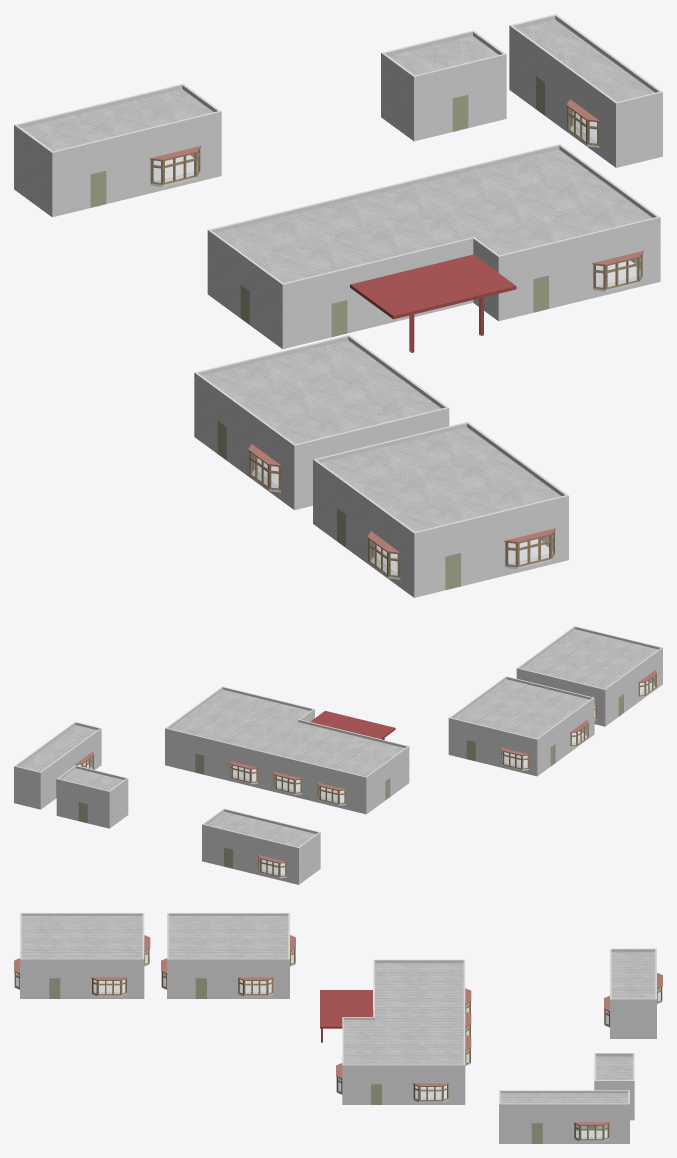
File: Plan(REF)_levels(1)_window(W Splay Bay 23_5)_wall(WAFRA WALL)_quoin(N)_cornice(N).fbx
3 renders of one model, top to bottom at view 1: azimuth 30°, elevation 25°; view 2: azimuth 150°, elevation 25°; view 3: azimuth 270°, elevation 25°, orthographic. The views are drawn at different scales.
Visible parts, largest first — view 1: WAFRA Stucco - White Rough 23, WAFRA Roof - Corrugated Sheet Matte 23, WAFRA Roof - Standing Seam Red Coat 23, Color - Beige, Wood - Millwork - Pine - Horizontal, Glass - Clear, Metal - Finish - Copper, Color - White; view 2: WAFRA Stucco - White Rough 23, WAFRA Roof - Corrugated Sheet Matte 23, Wood - Millwork - Pine - Horizontal, Glass - Clear, Color - Beige, WAFRA Roof - Standing Seam Red Coat 23, Metal - Finish - Copper, Color - White; view 3: WAFRA Roof - Corrugated Sheet Matte 23, WAFRA Stucco - White Rough 23, Wood - Millwork - Pine - Horizontal, WAFRA Roof - Standing Seam Red Coat 23, Glass - Clear, Metal - Finish - Copper, Color - Beige, Color - White.
Boxes of the visible parts, x1,y1,x2,y2 form: WAFRA Stucco - White Rough 23: (14,14,662,597); WAFRA Roof - Corrugated Sheet Matte 23: (22,19,654,531); WAFRA Roof - Standing Seam Red Coat 23: (350,254,516,352); Color - Beige: (90,76,548,590); Wood - Millwork - Pine - Horizontal: (150,106,642,577); Glass - Clear: (153,108,640,575); Metal - Finish - Copper: (149,99,643,553); Color - White: (150,126,642,579); WAFRA Stucco - White Rough 23: (14,626,662,884); WAFRA Roof - Corrugated Sheet Matte 23: (19,629,658,846); Wood - Millwork - Pine - Horizontal: (76,674,656,876); Glass - Clear: (77,676,655,875); Color - Beige: (56,694,623,868); WAFRA Roof - Standing Seam Red Coat 23: (310,710,395,739); Metal - Finish - Copper: (75,670,657,863); Color - White: (90,686,656,878); WAFRA Roof - Corrugated Sheet Matte 23: (21,916,655,1103); WAFRA Stucco - White Rough 23: (20,913,656,1143); Wood - Millwork - Pine - Horizontal: (14,948,662,1140); WAFRA Roof - Standing Seam Red Coat 23: (320,990,372,1042); Glass - Clear: (16,950,660,1138); Metal - Finish - Copper: (14,935,662,1125); Color - Beige: (49,978,597,1143); Color - White: (14,952,662,1141).
Bounding box in the file's own units: 4259 × 5945 × 400.
Materials: 12 (5 with a texture image).
